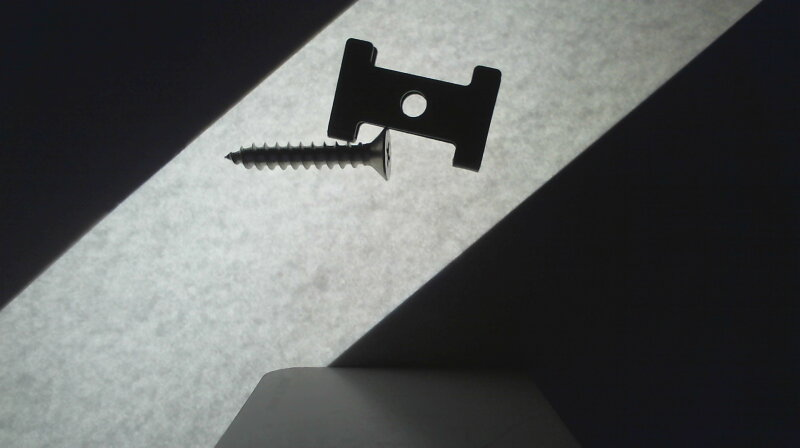O002: (327, 36, 502, 174)
S001: (221, 127, 393, 180)
